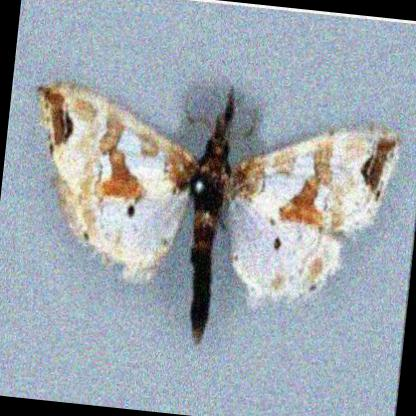leucinodes: (40, 80, 399, 346)
